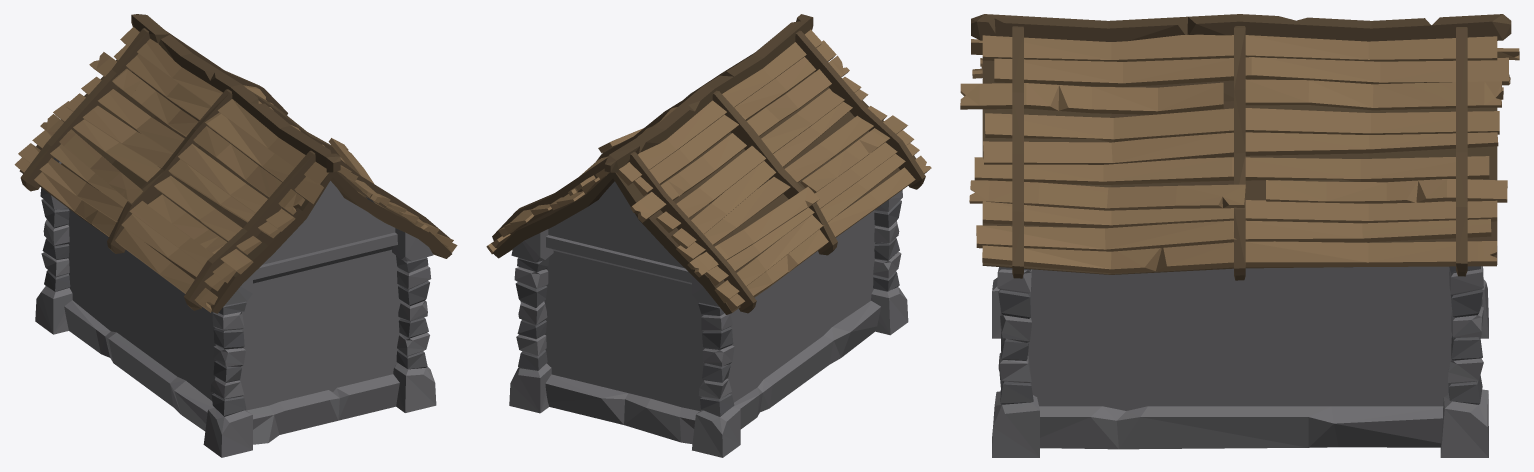
File: SM_Bld_Church_Room_03_Lite.gltf
3 views of the same model, side by side, from view 1: azimuth 30°, elevation 25°; view 2: azimuth 150°, elevation 25°; view 3: azimuth 270°, elevation 25° (orthographic). The views are drawn at different scales.
Visible parts, largest first — view 1: SM_Bld_Church_Room_03_Lite; view 2: SM_Bld_Church_Room_03_Lite; view 3: SM_Bld_Church_Room_03_Lite.
Part boxes in pixels (x1=…): SM_Bld_Church_Room_03_Lite: x1=14, y1=14, x2=457, y2=457; SM_Bld_Church_Room_03_Lite: x1=486, y1=14, x2=931, y2=457; SM_Bld_Church_Room_03_Lite: x1=960, y1=14, x2=1519, y2=457.
Size of the model in its own units: 6.42 by 6.4 by 8.75.
1 material, 1 textured.
